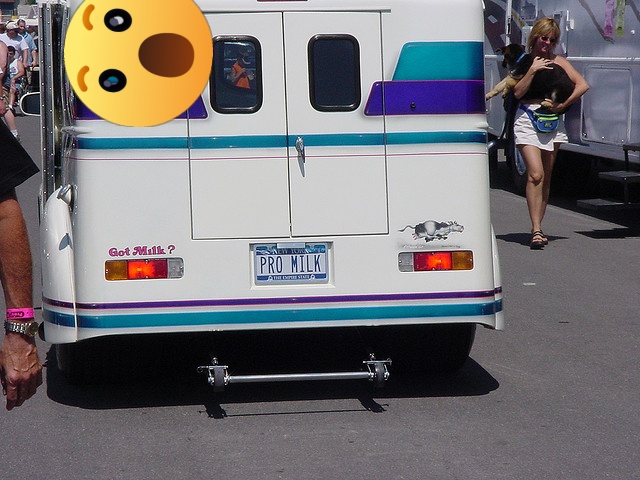wow: (64, 0, 213, 127)
